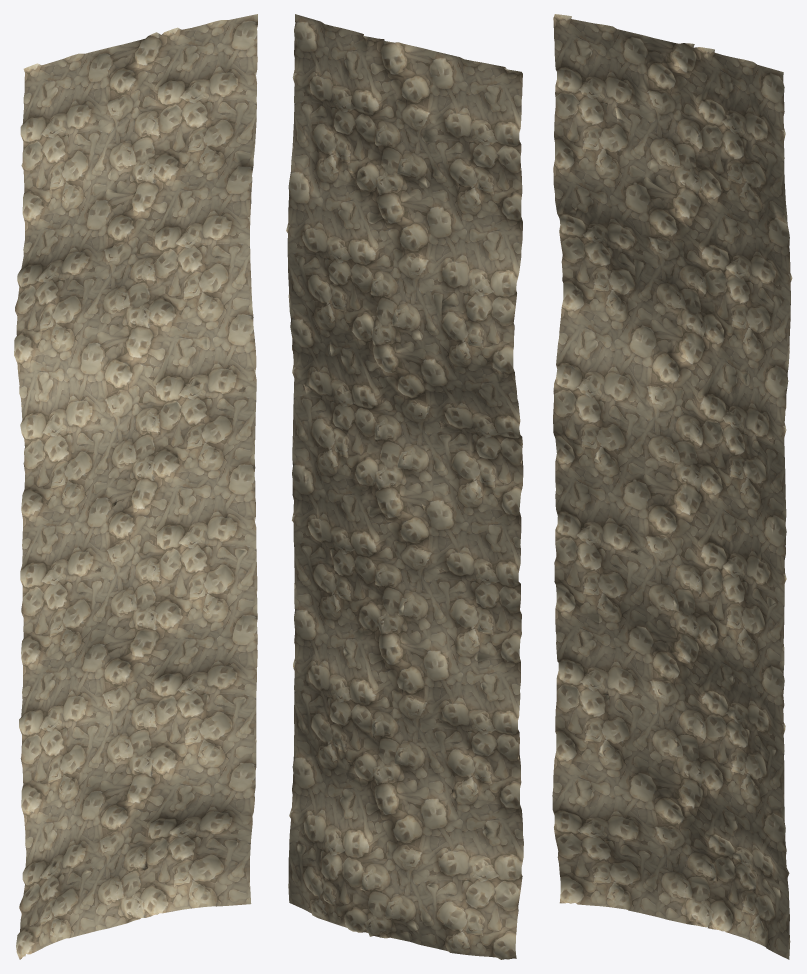
Rendered from SM_Pile_Wall_Arch_03.fbx.
3 renders of one model, left to right at view 1: azimuth 30°, elevation 25°; view 2: azimuth 150°, elevation 25°; view 3: azimuth 330°, elevation 25°, orthographic.
Visible parts, largest first — view 1: SM_Pile_Wall_Arch_03; view 2: SM_Pile_Wall_Arch_03; view 3: SM_Pile_Wall_Arch_03.
Boxes of the visible parts, x1=… form: SM_Pile_Wall_Arch_03: x1=14, y1=14, x2=257, y2=959; SM_Pile_Wall_Arch_03: x1=286, y1=14, x2=523, y2=959; SM_Pile_Wall_Arch_03: x1=552, y1=14, x2=792, y2=959.
Bounding box in the file's own units: 222 × 39.09 × 815.
1 material, 1 textured.
